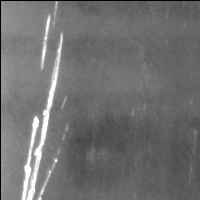scratches: (20, 30, 69, 200), (36, 1, 59, 80)
